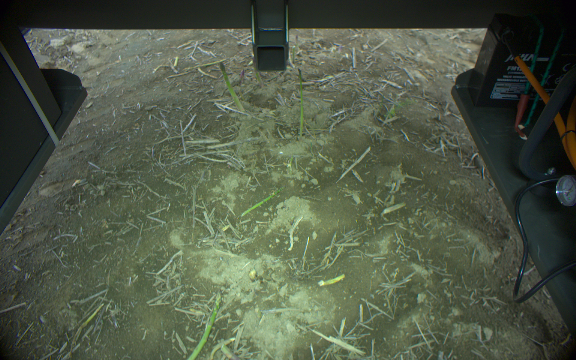aspa: (185, 288, 223, 360), (240, 184, 288, 217), (218, 61, 246, 113), (297, 69, 305, 138), (219, 343, 240, 360), (318, 273, 345, 286), (252, 68, 263, 89)
